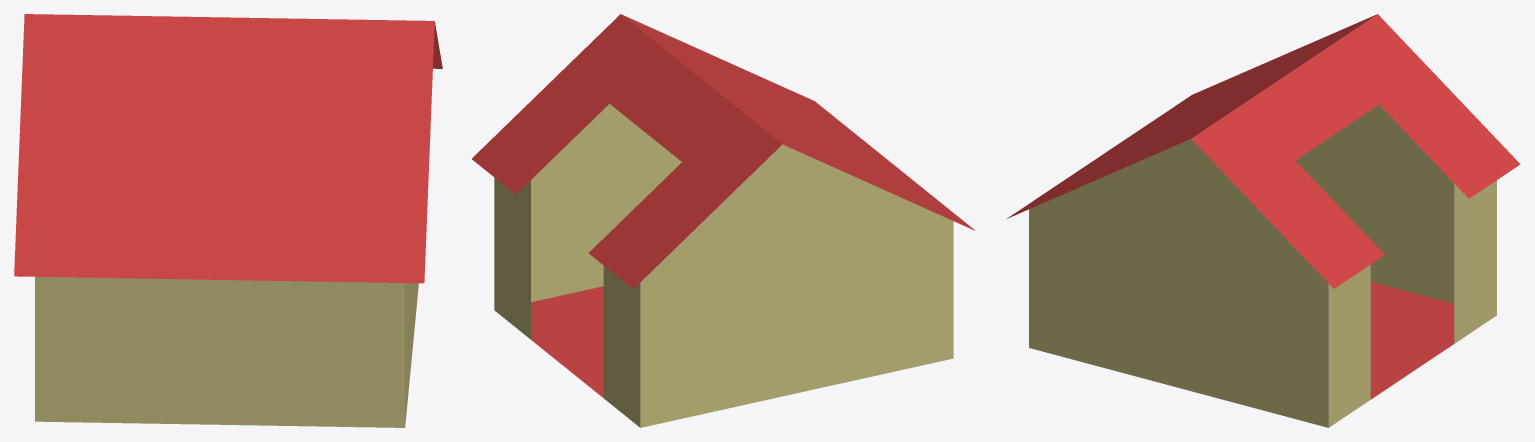
3 views of the same model, side by side, from view 1: azimuth 30°, elevation 25°; view 2: azimuth 150°, elevation 25°; view 3: azimuth 270°, elevation 25° (orthographic). The views are drawn at different scales.
Bounding box in the file's own units: 22.03 × 22.57 × 12.61.
